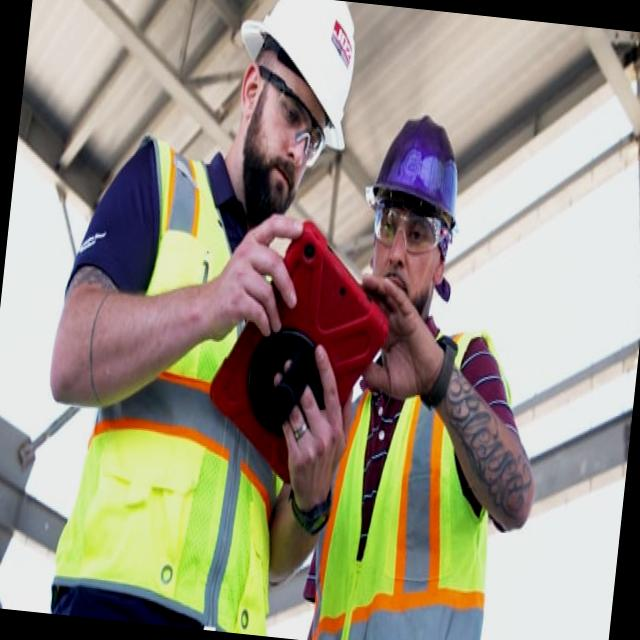goggles: (240, 51, 335, 180), (361, 192, 447, 257)
helmet: (220, 0, 371, 158), (364, 98, 470, 230)
vest: (61, 122, 262, 630), (322, 349, 515, 640)
